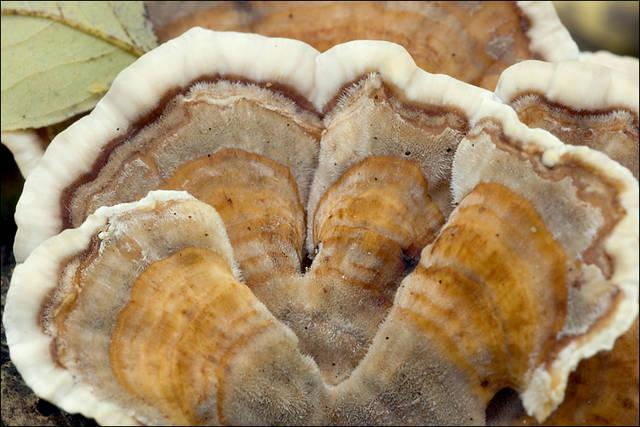Non-edible Mushroom: (4, 24, 636, 424)
